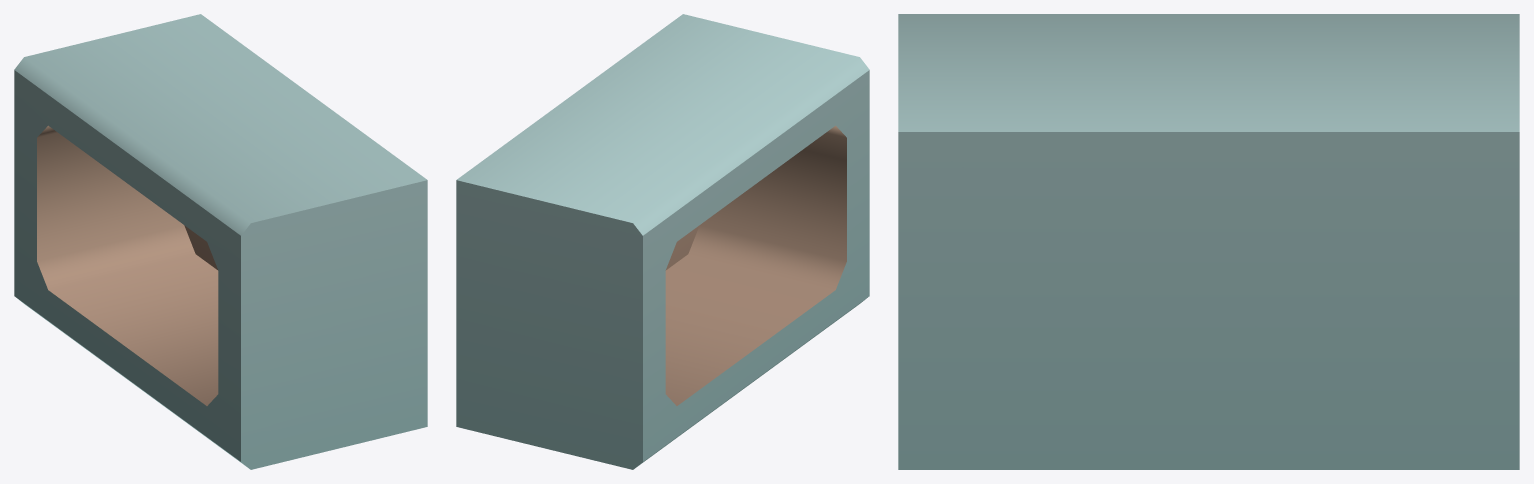
Rendered from cabinet-decorative-upper-short (%wall).glb.
The picture shows the model from 3 angles, left to right: view 1: azimuth 30°, elevation 25°; view 2: azimuth 150°, elevation 25°; view 3: azimuth 270°, elevation 25°; orthographic projection. The views are drawn at different scales.
Visible parts, largest first — view 1: cabinet-decorative-upper-short (%wall); view 2: cabinet-decorative-upper-short (%wall); view 3: cabinet-decorative-upper-short (%wall).
Boxes of the visible parts, x1,y1,x2,y2 form: cabinet-decorative-upper-short (%wall): [14, 14, 427, 469]; cabinet-decorative-upper-short (%wall): [456, 14, 869, 469]; cabinet-decorative-upper-short (%wall): [898, 14, 1519, 469].
Bounding box in the file's own units: 0.2375 × 0.3 × 0.5.
